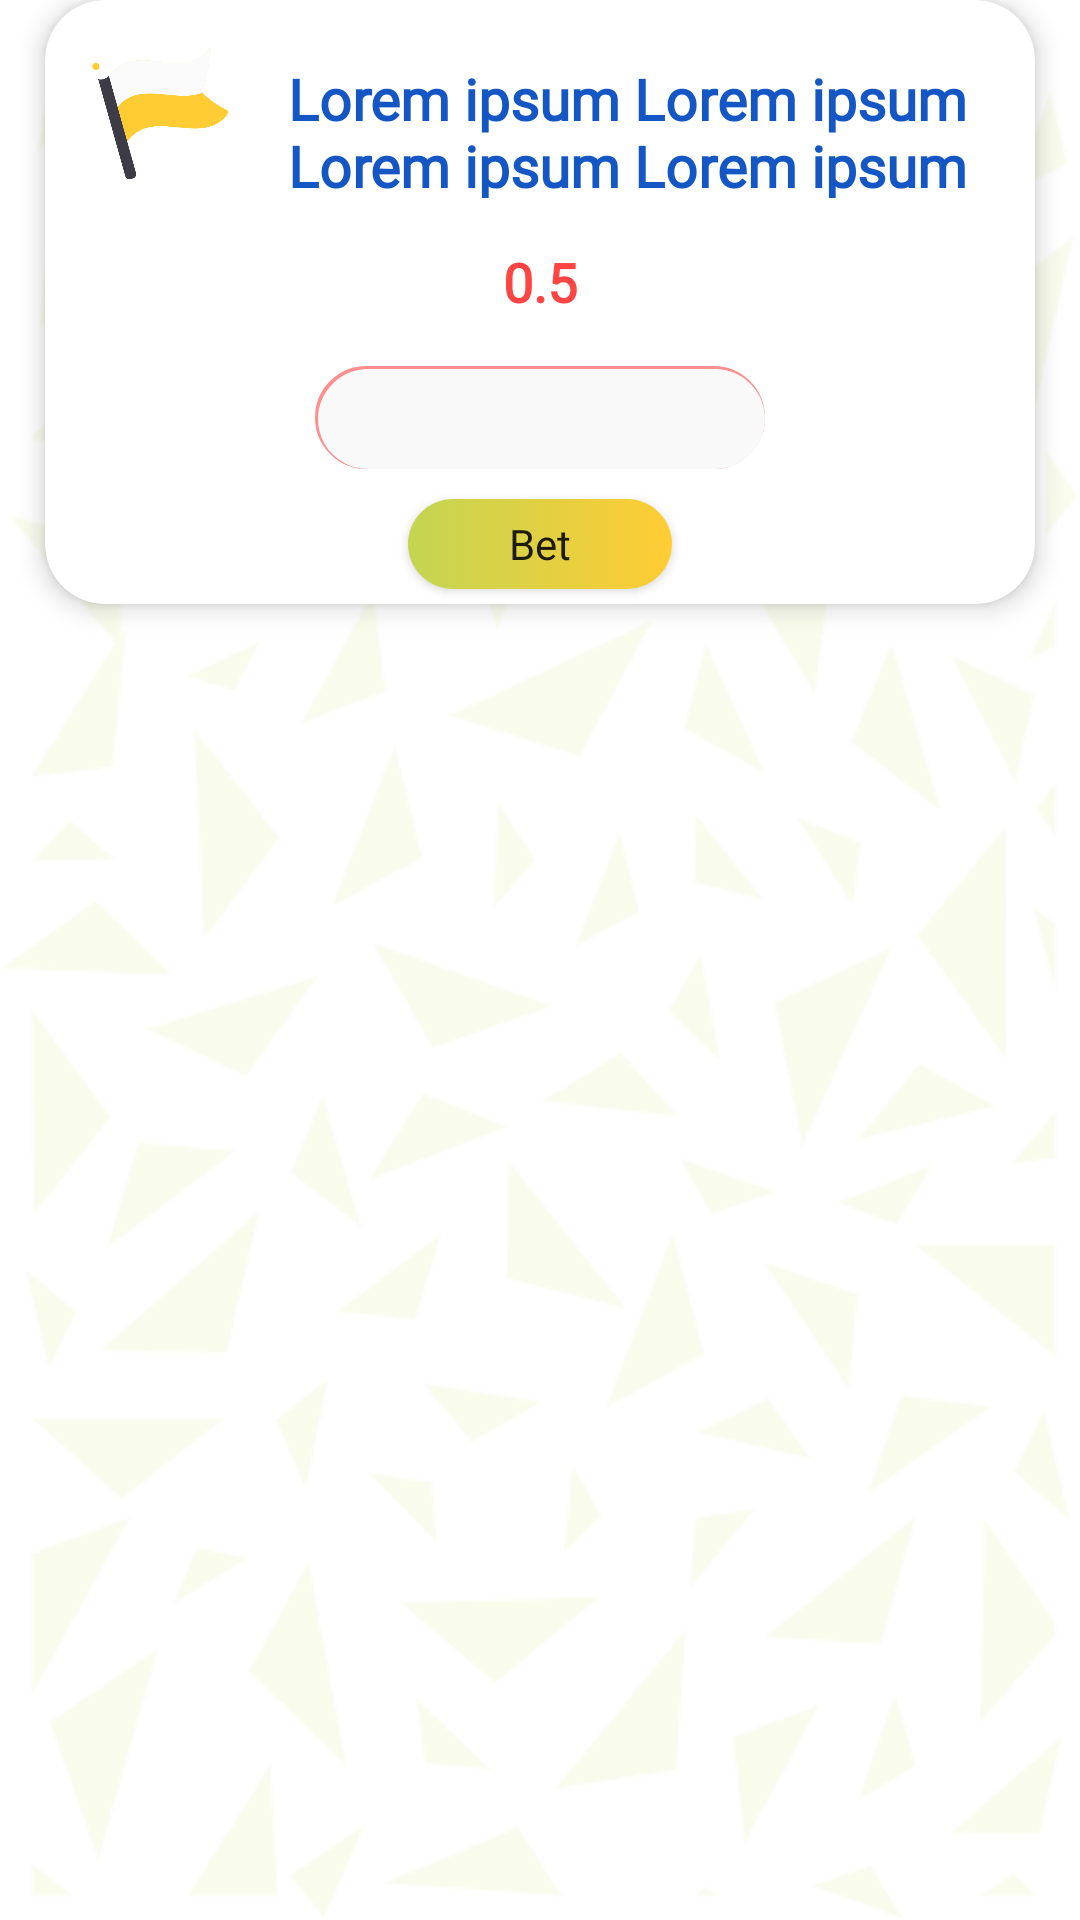

Point at icon controls on the screen. Image size 1080x1920, points as point (x, y).
flag: point (160, 114)
